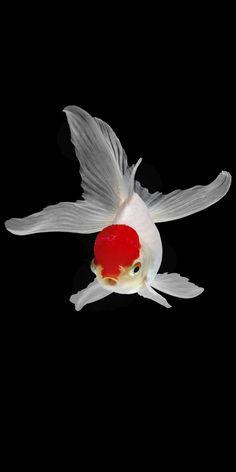goldfish: (25, 133, 217, 338)
